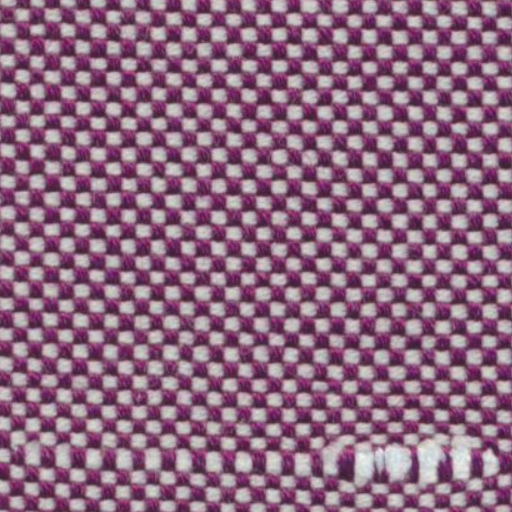DaiSha: (20, 424, 506, 495)
